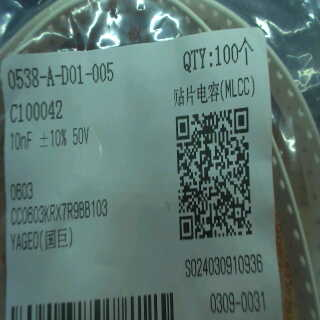10nF: (7, 130, 36, 151)
